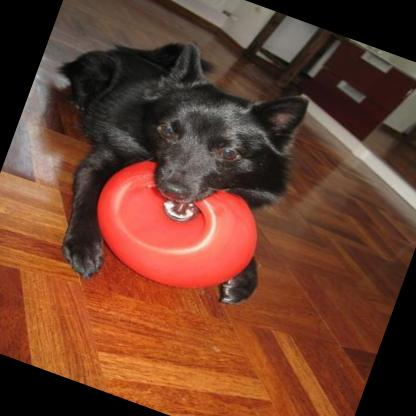schipperke: (0, 0, 325, 333)
